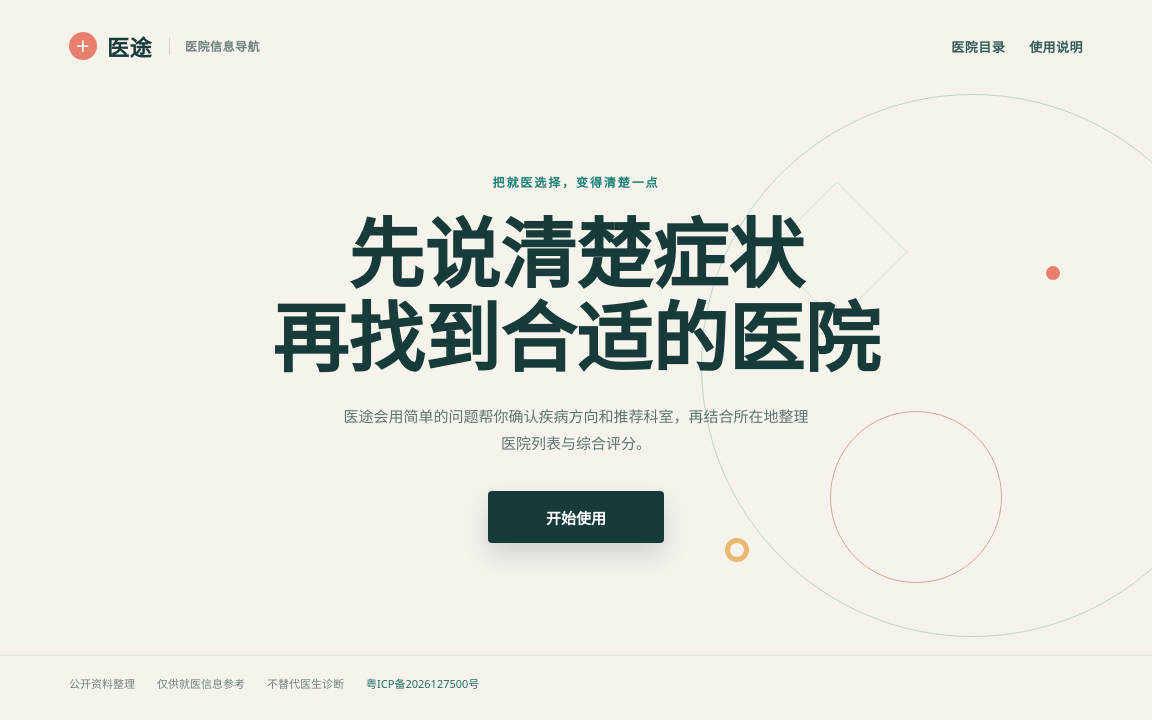
guided medical entry flow › shows an animated AI thinking status while the first symptom assessment is pending
This screenshot has width=1152, height=720.
Click the button "开始使用" at (576,517), box [488,491,664,543]
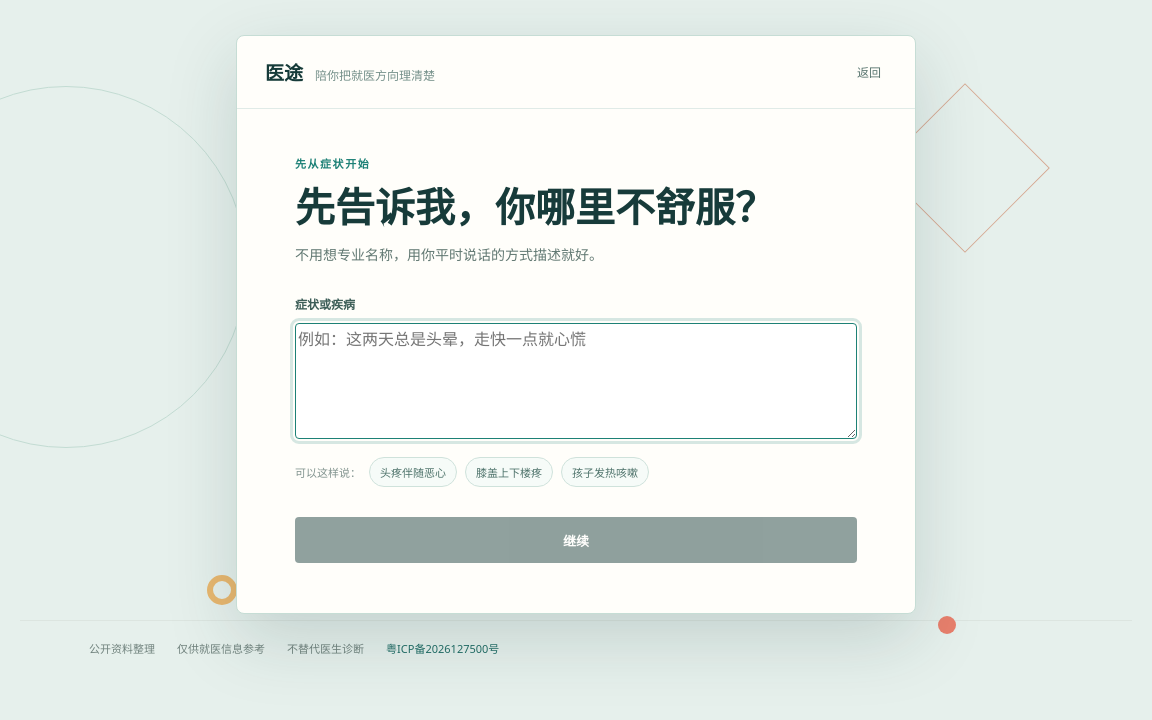
Type "孩子发热咳嗽" into the text box labelled "症状或疾病" at (576,381), box [295,323,857,439]
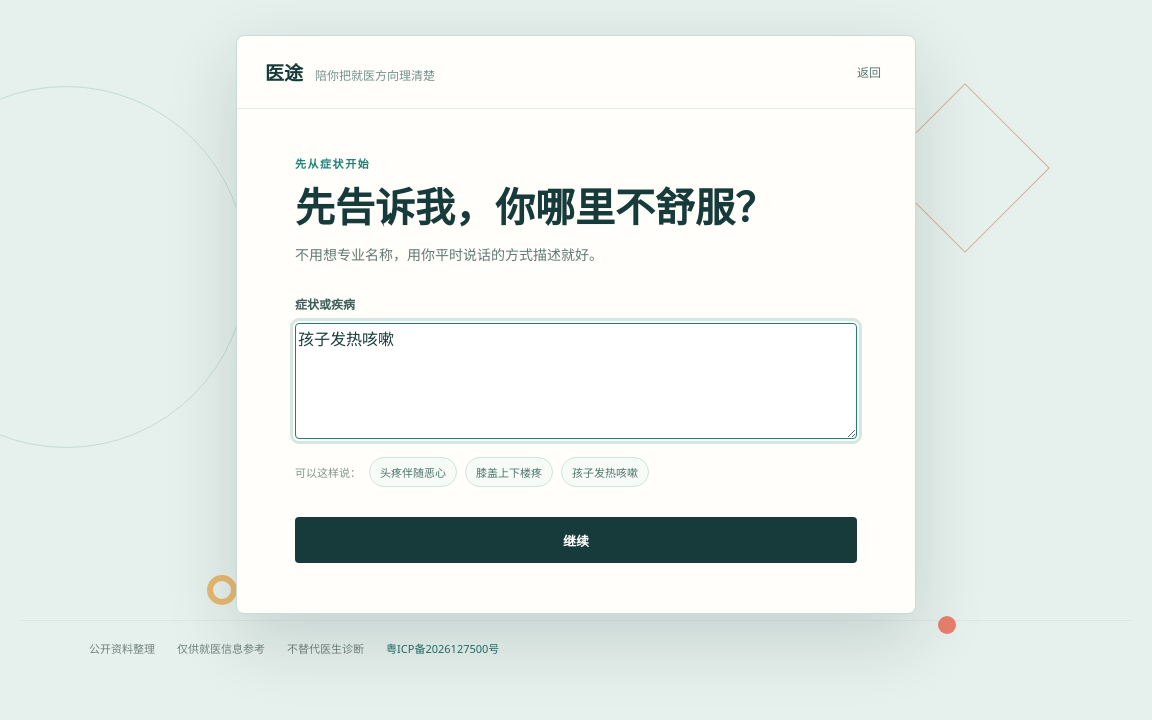
Click the button "继续" at (576,540), box [295,517,857,563]
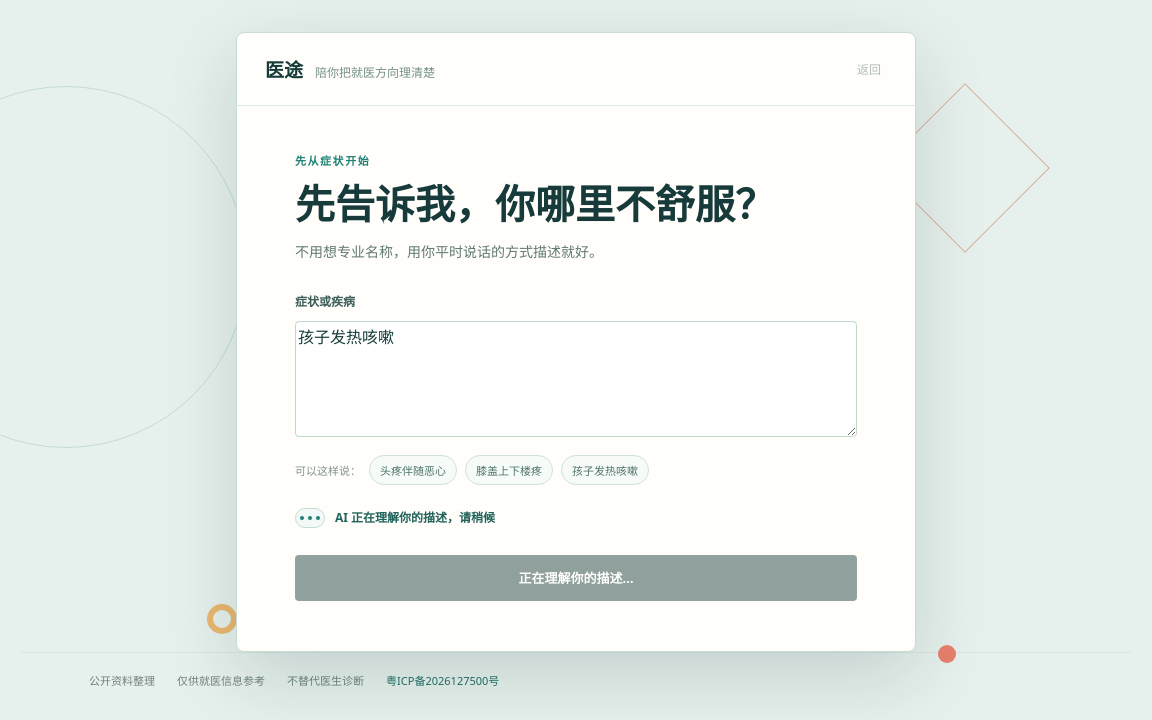
Result: the message "AI 正在理解你的描述，请稍候" is shown at [295,508,495,528]
Result: the button "正在理解你的描述…" is shown at [295,555,857,601]
